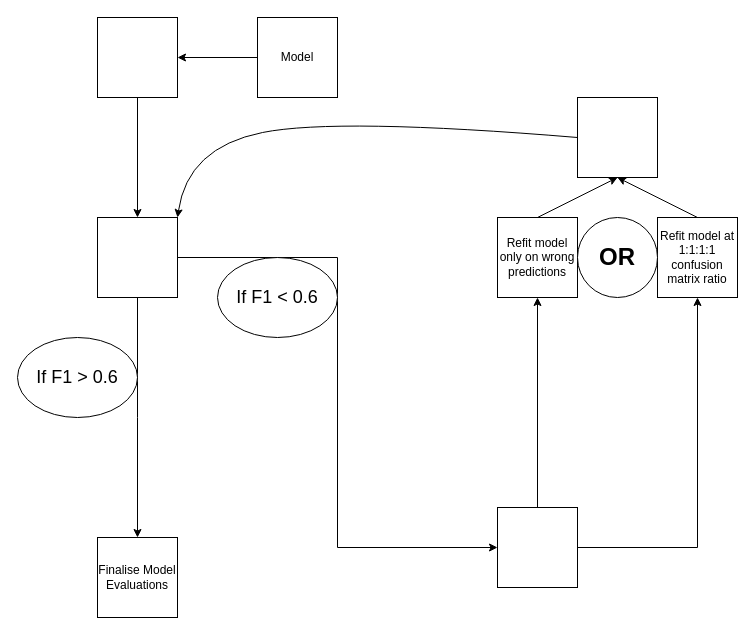
This 755x635 diagram has some shape labels left out. The centre of each missing label's shape, as x and y in pixels:
"Fit" goes at point 137,57.
"Make Predictions" goes at point 137,257.
"Return Fitted Model" goes at point 617,137.
"Split Data into Preds and Trues" goes at point 537,547.
